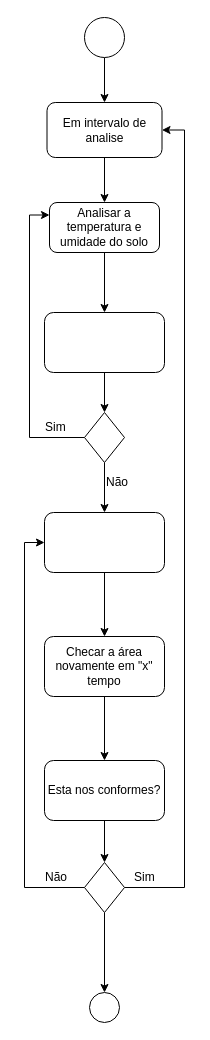
Some shapes in this 210 by 1040 pixel diagram are drawn without their labels. Each missing label, with the box of its shape:
Acionar o irrigador: (44, 512, 164, 572)
Temperatura e umidade estão nos conformes?: (44, 312, 164, 372)
